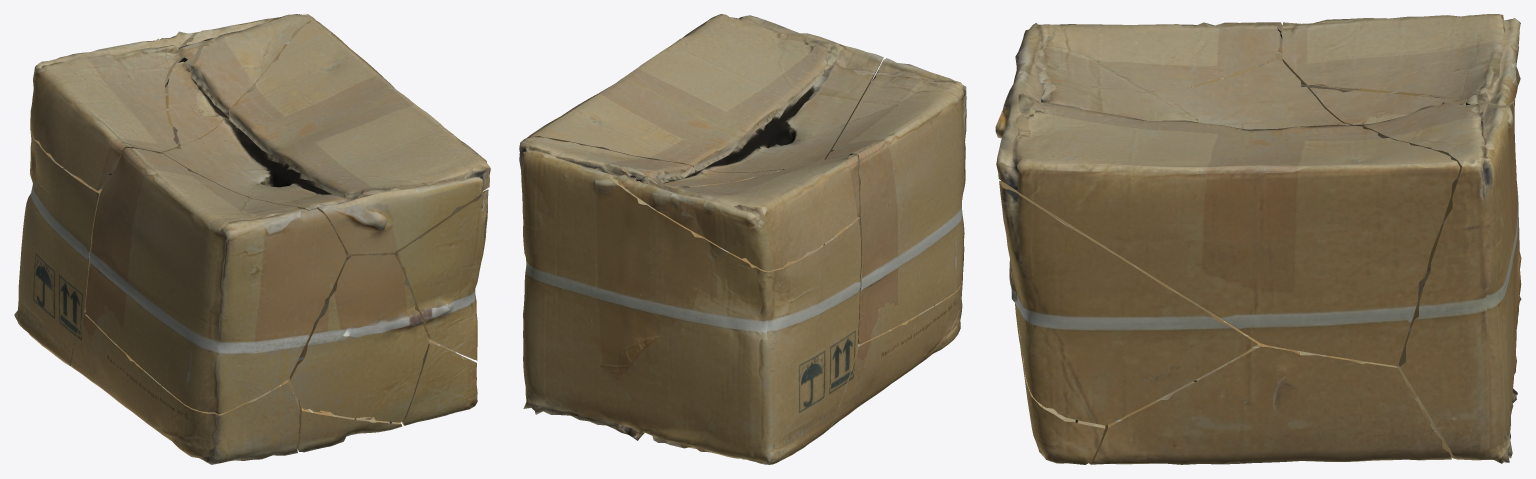
File: cardboards box.glb
3 renders of one model, left to right at view 1: azimuth 30°, elevation 25°; view 2: azimuth 150°, elevation 25°; view 3: azimuth 270°, elevation 25°, orthographic. The views are drawn at different scales.
Visible parts, largest first — view 1: cardboard_box_01_cell.007, cardboard_box_01_cell.003, cardboard_box_01_cell.006, cardboard_box_01_cell.002, cardboard_box_01_cell.008, cardboard_box_01_cell.004, cardboard_box_01_cell.001, cardboard_box_01_cell.009, cardboard_box_01_cell; view 2: cardboard_box_01_cell.006, cardboard_box_01_cell.003, cardboard_box_01_cell.007, cardboard_box_01_cell.008, cardboard_box_01_cell.004; view 3: cardboard_box_01_cell.003, cardboard_box_01_cell.006, cardboard_box_01_cell.001, cardboard_box_01_cell.005, cardboard_box_01_cell.008, cardboard_box_01_cell.007, cardboard_box_01_cell.009.
Part boxes in pixels (left/top/right/bottom): cardboard_box_01_cell.007: left=85, top=148, right=346, bottom=414; cardboard_box_01_cell.003: left=163, top=20, right=490, bottom=257; cardboard_box_01_cell.006: left=14, top=14, right=315, bottom=366; cardboard_box_01_cell.002: left=289, top=254, right=428, bottom=422; cardboard_box_01_cell.008: left=30, top=31, right=203, bottom=190; cardboard_box_01_cell.004: left=71, top=314, right=299, bottom=464; cardboard_box_01_cell.001: left=390, top=189, right=488, bottom=360; cardboard_box_01_cell.009: left=401, top=341, right=477, bottom=425; cardboard_box_01_cell: left=297, top=400, right=402, bottom=452; cardboard_box_01_cell.006: left=519, top=137, right=860, bottom=464; cardboard_box_01_cell.003: left=527, top=14, right=883, bottom=172; cardboard_box_01_cell.007: left=826, top=58, right=966, bottom=344; cardboard_box_01_cell.008: left=613, top=155, right=859, bottom=270; cardboard_box_01_cell.004: left=830, top=273, right=962, bottom=428; cardboard_box_01_cell.003: left=995, top=60, right=1460, bottom=366; cardboard_box_01_cell.006: left=1301, top=84, right=1521, bottom=463; cardboard_box_01_cell.001: left=999, top=181, right=1257, bottom=425; cardboard_box_01_cell.005: left=1089, top=310, right=1451, bottom=464; cardboard_box_01_cell.008: left=1282, top=14, right=1520, bottom=105; cardboard_box_01_cell.007: left=1013, top=22, right=1282, bottom=92; cardboard_box_01_cell.009: left=1018, top=328, right=1105, bottom=464.
Size of the model in its own units: 0.3869 by 0.3418 by 0.5159.
Materials: 1 (1 with a texture image).
